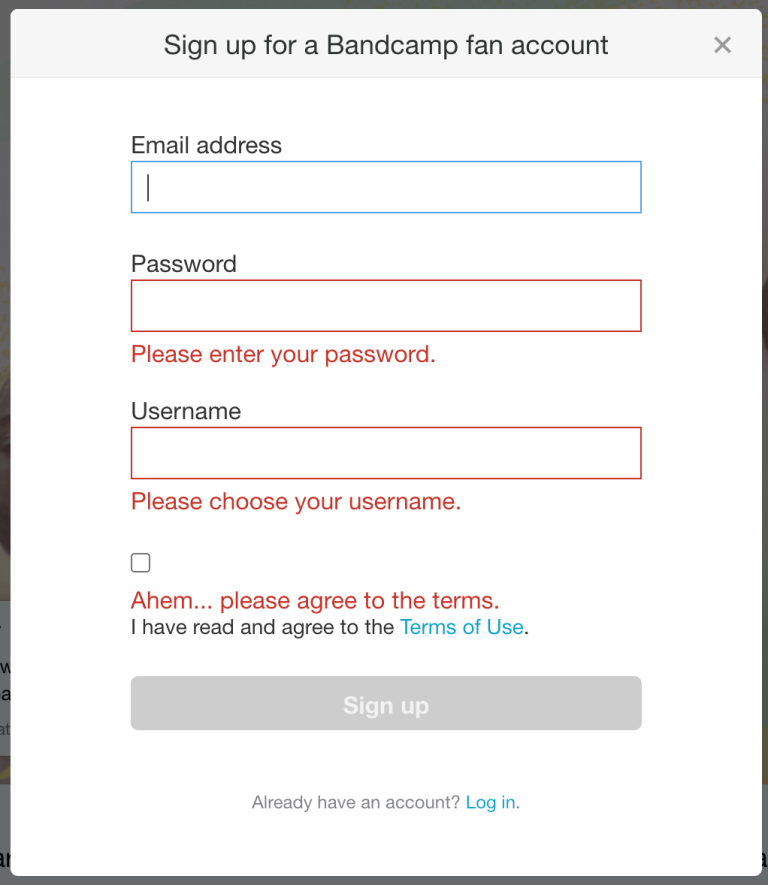error_field: (127, 278, 644, 333), (129, 426, 643, 480)
error_message: (126, 587, 499, 612), (128, 488, 461, 515), (129, 340, 435, 368)
